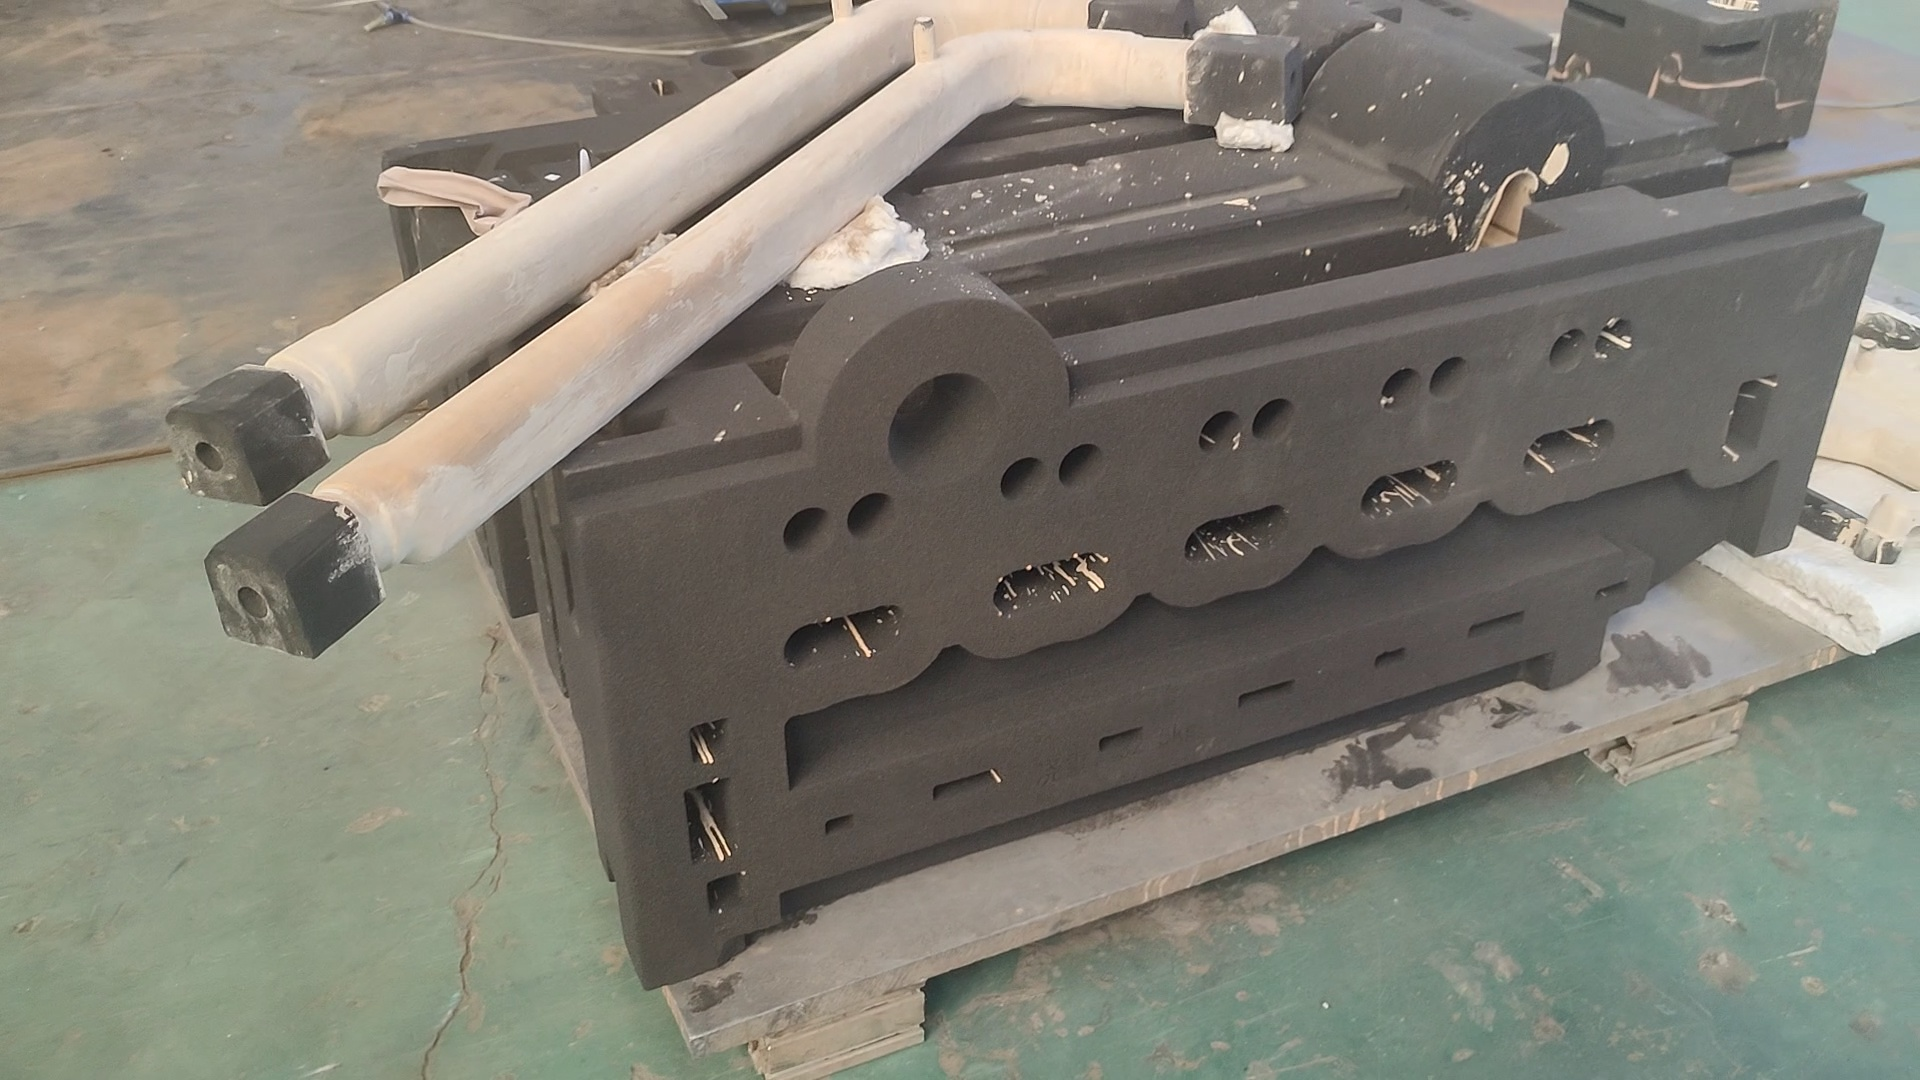pouring hole: (886, 371, 1004, 488), (695, 45, 757, 69)
